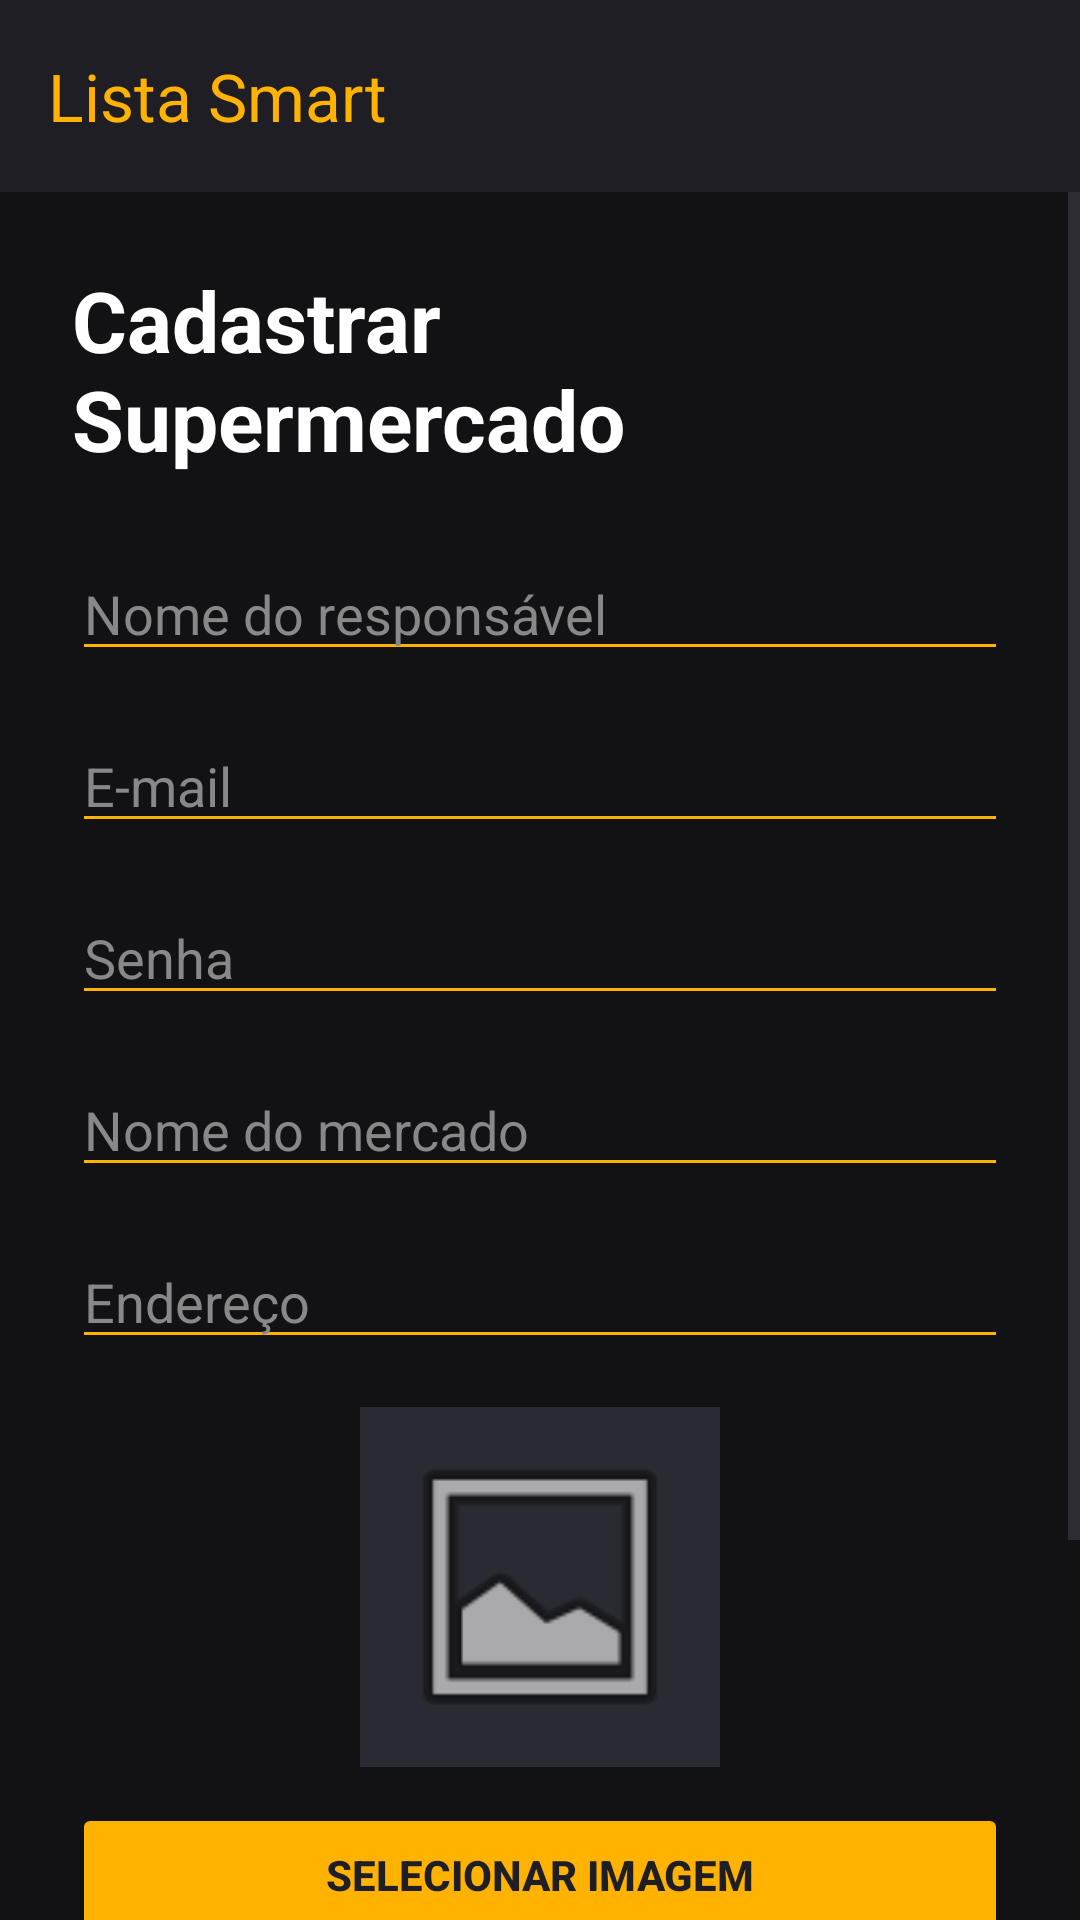

Icons on this 1080px x 1920px Android screen, each with its box as (x1, y1, x2, y2):
gallery: (360, 1407, 720, 1767)
